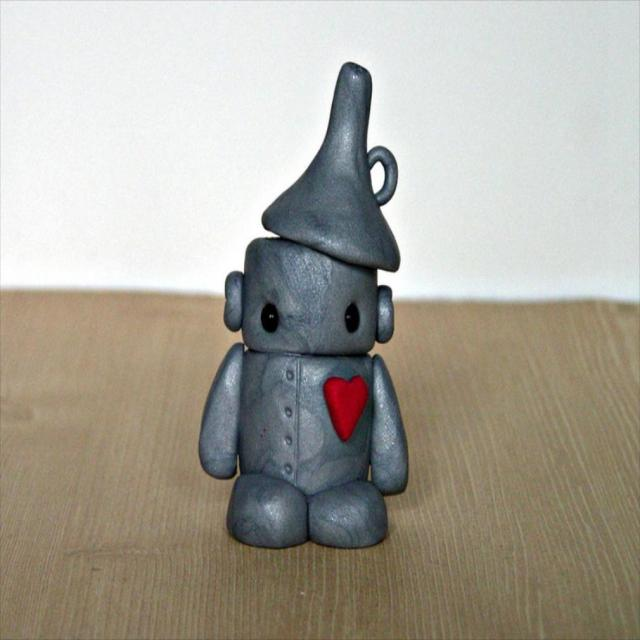Toy: (198, 62, 409, 547)
